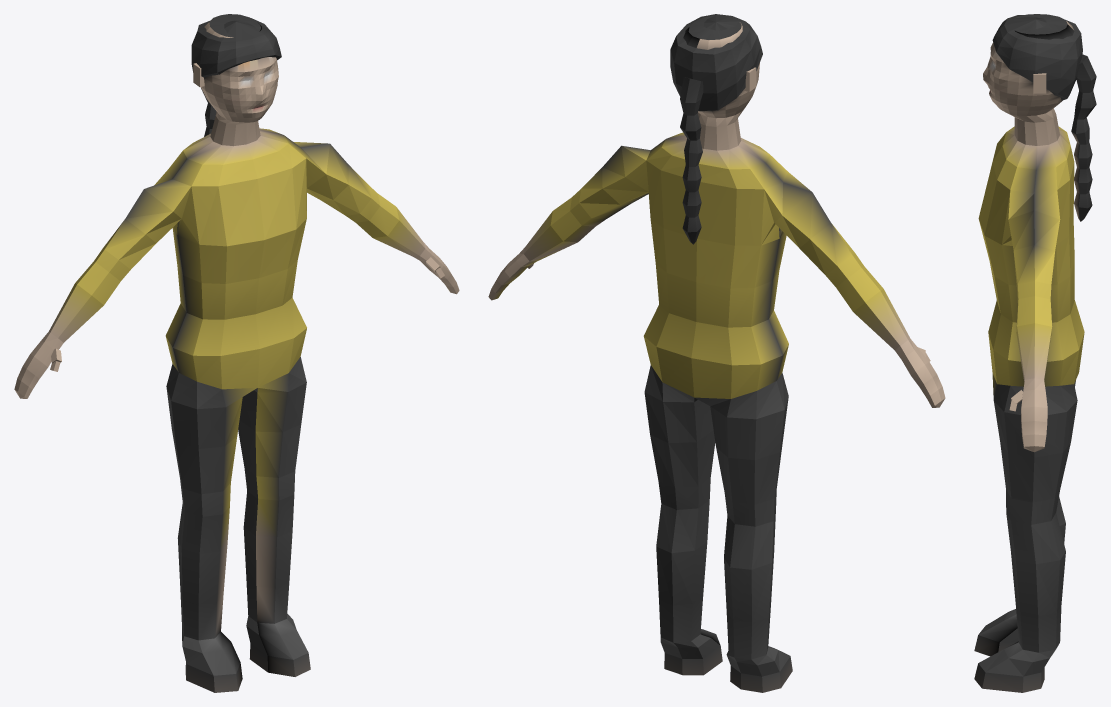
The model's file is char__pessoa__lucia.glb.
3 renders of one model, left to right at view 1: azimuth 30°, elevation 25°; view 2: azimuth 150°, elevation 25°; view 3: azimuth 270°, elevation 25°, orthographic. The views are drawn at different scales.
Parts seen in each view (by area): view 1: char__pessoa__lucia; view 2: char__pessoa__lucia; view 3: char__pessoa__lucia.
Boxes of the visible parts, x1,y1,x2,y2 form: char__pessoa__lucia: [14, 14, 459, 692]; char__pessoa__lucia: [488, 14, 945, 692]; char__pessoa__lucia: [974, 14, 1096, 692].
Bounding box in the file's own units: 1.15 × 1.62 × 0.2761.
